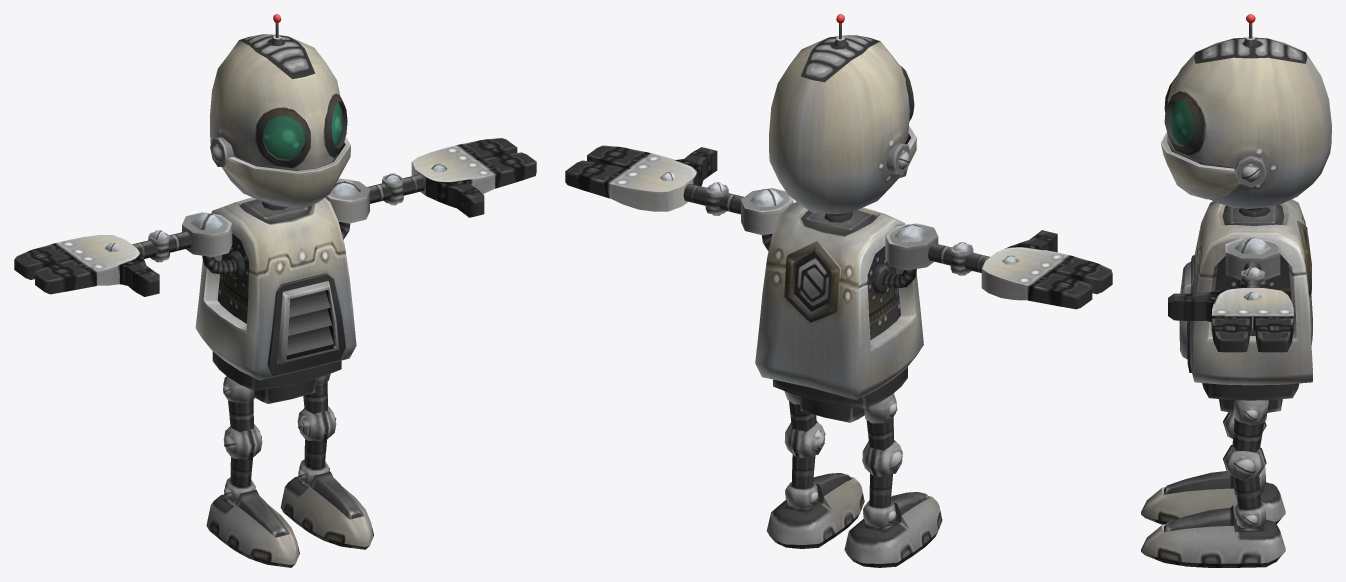
File: daxter-highres-lod0.glb
The picture shows the model from 3 angles, left to right: view 1: azimuth 30°, elevation 25°; view 2: azimuth 150°, elevation 25°; view 3: azimuth 270°, elevation 25°; orthographic projection. The views are drawn at different scales.
Parts seen in each view (by area): view 1: Clank; view 2: Clank; view 3: Clank.
Boxes of the visible parts, x1=… form: Clank: x1=14, y1=14, x2=536, y2=567; Clank: x1=565, y1=14, x2=1112, y2=567; Clank: x1=1141, y1=14, x2=1331, y2=567.
Bounding box in the file's own units: 1.37 × 1.35 × 0.4459.
Materials: 1 (1 with a texture image).
